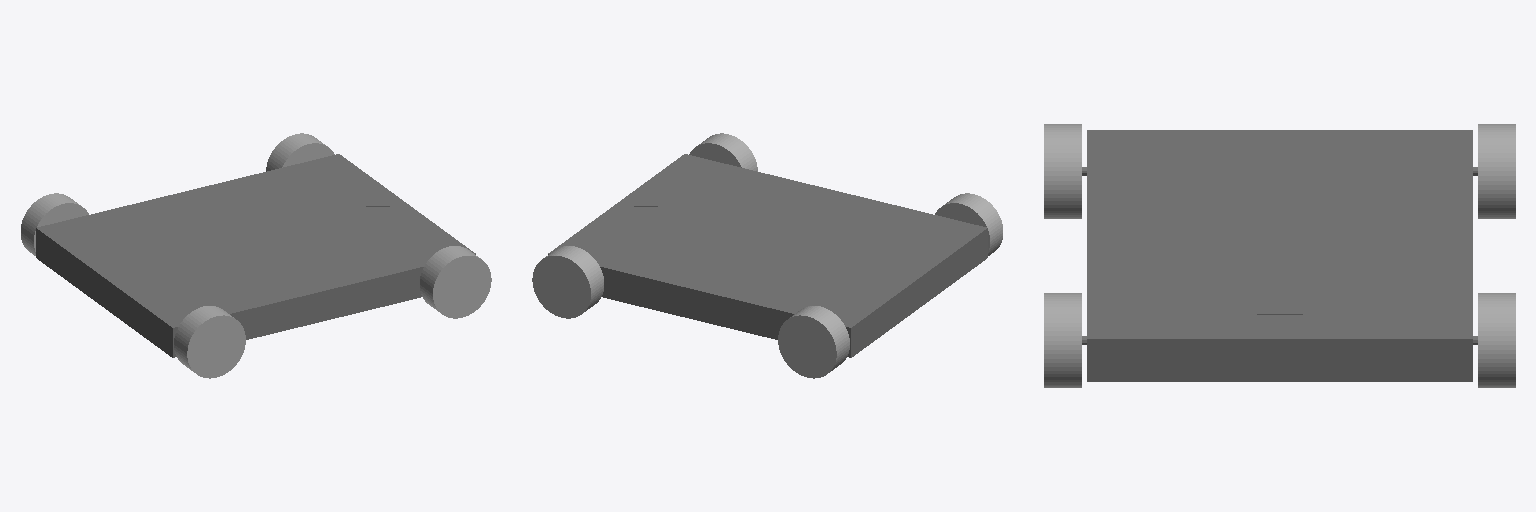
The robot description file, URDF, robot "doozy":
<?xml version="1.0" ?>
<!-- =================================================================================== -->
<!-- |    This document was autogenerated by xacro from doozy.xacro                 | -->
<!-- |    EDITING THIS FILE BY HAND IS NOT RECOMMENDED                                 | -->
<!-- =================================================================================== -->
<robot name="doozy" xmlns:xacro="http://www.ros.org/wiki/xacro">
  <material name="body_color">
    <color rgba="0.500 0.500 0.500 1.000"/>
  </material>
  <material name="wheel_color">
    <color rgba="0.700 0.700 0.700 1.000"/>
  </material>
  <transmission name="motor_fr_tran">
    <type>transmission_interface/SimpleTransmission</type>
    <joint name="motor_fr">
      <hardwareInterface>hardware_interface/EffortJointInterface</hardwareInterface>
    </joint>
    <actuator name="motor_fr_actr">
      <hardwareInterface>hardware_interface/EffortJointInterface</hardwareInterface>
      <mechanicalReduction>1</mechanicalReduction>
    </actuator>
  </transmission>
  <transmission name="motor_fl_tran">
    <type>transmission_interface/SimpleTransmission</type>
    <joint name="motor_fl">
      <hardwareInterface>hardware_interface/EffortJointInterface</hardwareInterface>
    </joint>
    <actuator name="motor_fl_actr">
      <hardwareInterface>hardware_interface/EffortJointInterface</hardwareInterface>
      <mechanicalReduction>1</mechanicalReduction>
    </actuator>
  </transmission>
  <transmission name="motor_bl_tran">
    <type>transmission_interface/SimpleTransmission</type>
    <joint name="motor_bl">
      <hardwareInterface>hardware_interface/EffortJointInterface</hardwareInterface>
    </joint>
    <actuator name="motor_bl_actr">
      <hardwareInterface>hardware_interface/EffortJointInterface</hardwareInterface>
      <mechanicalReduction>1</mechanicalReduction>
    </actuator>
  </transmission>
  <transmission name="motor_br_tran">
    <type>transmission_interface/SimpleTransmission</type>
    <joint name="motor_br">
      <hardwareInterface>hardware_interface/EffortJointInterface</hardwareInterface>
    </joint>
    <actuator name="motor_br_actr">
      <hardwareInterface>hardware_interface/EffortJointInterface</hardwareInterface>
      <mechanicalReduction>1</mechanicalReduction>
    </actuator>
  </transmission>
  <gazebo reference="base_link">
    <material>Gazebo/Grey</material>
  </gazebo>
  <gazebo reference="wheel_fr_1">
    <material>Gazebo/LightGrey</material>
  </gazebo>
  <gazebo reference="wheel_fl_1">
    <material>Gazebo/LightGrey</material>
  </gazebo>
  <gazebo reference="wheel_bl_1">
    <material>Gazebo/LightGrey</material>
  </gazebo>
  <gazebo reference="wheel_br_1">
    <material>Gazebo/LightGrey</material>
  </gazebo>
  <gazebo reference="base_link">
    <mu1>0</mu1>
    <mu2>0</mu2>
    <selfCollide>true</selfCollide>
    <gravity>true</gravity>
  </gazebo>
  <gazebo reference="wheel_fr_1">
    <mu1>0</mu1>
    <mu2>0</mu2>
    <selfCollide>true</selfCollide>
  </gazebo>
  <gazebo reference="wheel_fl_1">
    <mu1>0</mu1>
    <mu2>0</mu2>
    <selfCollide>true</selfCollide>
  </gazebo>
  <gazebo reference="wheel_bl_1">
    <mu1>0</mu1>
    <mu2>0</mu2>
    <selfCollide>true</selfCollide>
  </gazebo>
  <gazebo reference="wheel_br_1">
    <mu1>0</mu1>
    <mu2>0</mu2>
    <selfCollide>true</selfCollide>
  </gazebo>
  <gazebo>
    <plugin filename="libgazebo_ros_control.so" name="control"/>
  </gazebo>
  <gazebo>
    <plugin filename="libgazebo_ros_planar_move.so" name="mecanum_drive">
      <commandTopic>cmd_vel</commandTopic>
      <odometryTopic>odom</odometryTopic>
      <odometryFrame>odom</odometryFrame>
      <odometryRate>100.0</odometryRate>
      <robotBaseFrame>base_link</robotBaseFrame>
      <publishTF>True</publishTF>
    </plugin>
  </gazebo>
  <link name="base_link">
    <inertial>
      <origin rpy="0 0 0" xyz="-0.000688298297224989 1.5751456391869052e-16 0.10192216934639059"/>
      <mass value="49.42140174360976"/>
      <inertia ixx="3.400808" ixy="0.0" ixz="0.001669" iyy="5.304679" iyz="-0.0" izz="8.500348"/>
    </inertial>
    <visual>
      <origin rpy="0 0 0" xyz="0 0 0"/>
      <geometry>
        <mesh filename="package://doozy_description/meshes/base_link.stl" scale="0.001 0.001 0.001"/>
      </geometry>
      <material name="body_color"/>
    </visual>
    <collision>
      <origin rpy="0 0 0" xyz="0 0 0"/>
      <geometry>
        <mesh filename="package://doozy_description/meshes/base_link.stl" scale="0.001 0.001 0.001"/>
      </geometry>
    </collision>
  </link>
  <link name="wheel_fr">
    <inertial>
      <origin rpy="0 0 0" xyz="-1.6231938637645271e-06 -0.03791410954438729 6.6563337141889445e-06"/>
      <mass value="2.9254253401761314"/>
      <inertia ixx="0.009698" ixy="-0.0" ixz="0.0" iyy="0.016455" iyz="0.0" izz="0.009697"/>
    </inertial>
    <visual>
      <origin rpy="0 0 0" xyz="-0.425 0.426 -0.102"/>
      <geometry>
        <mesh filename="package://doozy_description/meshes/wheel_fr.stl" scale="0.001 0.001 0.001"/>
      </geometry>
      <material name="wheel_color"/>
    </visual>
    <collision>
      <origin rpy="0 0 0" xyz="-0.425 0.426 -0.102"/>
      <geometry>
        <mesh filename="package://doozy_description/meshes/wheel_fr.stl" scale="0.001 0.001 0.001"/>
      </geometry>
    </collision>
  </link>
  <link name="wheel_fl">
    <inertial>
      <origin rpy="0 0 0" xyz="-1.6273189041293712e-06 0.037914108528931734 6.657952042840587e-06"/>
      <mass value="2.9254254631047467"/>
      <inertia ixx="0.009698" ixy="0.0" ixz="0.0" iyy="0.016455" iyz="-0.0" izz="0.009697"/>
    </inertial>
    <visual>
      <origin rpy="0 0 0" xyz="-0.425 -0.426 -0.102"/>
      <geometry>
        <mesh filename="package://doozy_description/meshes/wheel_fl.stl" scale="0.001 0.001 0.001"/>
      </geometry>
      <material name="wheel_color"/>
    </visual>
    <collision>
      <origin rpy="0 0 0" xyz="-0.425 -0.426 -0.102"/>
      <geometry>
        <mesh filename="package://doozy_description/meshes/wheel_fl.stl" scale="0.001 0.001 0.001"/>
      </geometry>
    </collision>
  </link>
  <link name="wheel_bl">
    <inertial>
      <origin rpy="0 0 0" xyz="-1.3662729291818998e-06 0.03788965045500853 6.656333802451675e-06"/>
      <mass value="2.925425340175096"/>
      <inertia ixx="0.009698" ixy="-1e-06" ixz="0.0" iyy="0.016456" iyz="0.0" izz="0.009697"/>
    </inertial>
    <visual>
      <origin rpy="0 0 0" xyz="0.425 -0.426 -0.102"/>
      <geometry>
        <mesh filename="package://doozy_description/meshes/wheel_bl.stl" scale="0.001 0.001 0.001"/>
      </geometry>
      <material name="wheel_color"/>
    </visual>
    <collision>
      <origin rpy="0 0 0" xyz="0.425 -0.426 -0.102"/>
      <geometry>
        <mesh filename="package://doozy_description/meshes/wheel_bl.stl" scale="0.001 0.001 0.001"/>
      </geometry>
    </collision>
  </link>
  <link name="wheel_br">
    <inertial>
      <origin rpy="0 0 0" xyz="-1.3697194627959597e-06 -0.03788965136144423 6.657912586596759e-06"/>
      <mass value="2.925425404496671"/>
      <inertia ixx="0.009698" ixy="1e-06" ixz="0.0" iyy="0.016456" iyz="-0.0" izz="0.009697"/>
    </inertial>
    <visual>
      <origin rpy="0 0 0" xyz="0.425 0.426 -0.102"/>
      <geometry>
        <mesh filename="package://doozy_description/meshes/wheel_br.stl" scale="0.001 0.001 0.001"/>
      </geometry>
      <material name="wheel_color"/>
    </visual>
    <collision>
      <origin rpy="0 0 0" xyz="0.425 0.426 -0.102"/>
      <geometry>
        <mesh filename="package://doozy_description/meshes/wheel_br.stl" scale="0.001 0.001 0.001"/>
      </geometry>
    </collision>
  </link>
  <joint name="motor_fr" type="continuous">
    <origin rpy="0 0 0" xyz="0.425 -0.426 0.102"/>
    <parent link="base_link"/>
    <child link="wheel_fr"/>
    <axis xyz="0.0 0.01 0.0"/>
  </joint>
  <joint name="motor_fl" type="continuous">
    <origin rpy="0 0 0" xyz="0.425 0.426 0.102"/>
    <parent link="base_link"/>
    <child link="wheel_fl"/>
    <axis xyz="0.0 0.01 0.0"/>
  </joint>
  <joint name="motor_bl" type="continuous">
    <origin rpy="0 0 0" xyz="-0.425 0.426 0.102"/>
    <parent link="base_link"/>
    <child link="wheel_bl"/>
    <axis xyz="0.0 0.01 0.0"/>
  </joint>
  <joint name="motor_br" type="continuous">
    <origin rpy="0 0 0" xyz="-0.425 -0.426 0.102"/>
    <parent link="base_link"/>
    <child link="wheel_br"/>
    <axis xyz="0.0 0.01 0.0"/>
  </joint>
</robot>

--- Facts derived from the render (not from the file) ---
The picture shows the robot from 3 angles, left to right: view 1: azimuth 30°, elevation 25°; view 2: azimuth 150°, elevation 25°; view 3: azimuth 270°, elevation 25°; orthographic projection.
Model doozy with 5 links and 4 joints (4 continuous), rooted at base_link, posed all joints at 0.
Links seen in each view (by area): view 1: base_link, wheel_fr, wheel_br, wheel_bl, wheel_fl; view 2: base_link, wheel_fl, wheel_bl, wheel_br, wheel_fr; view 3: base_link, wheel_fr, wheel_fl, wheel_bl, wheel_br.
Boxes of the visible links, x1,y1,x2,y2 form: base_link: (36,154,475,357); wheel_fr: (420,246,491,318); wheel_br: (174,306,245,378); wheel_bl: (21,193,88,255); wheel_fl: (266,133,334,171); base_link: (548,154,987,357); wheel_fl: (532,246,603,318); wheel_bl: (778,306,849,378); wheel_br: (935,193,1002,255); wheel_fr: (689,133,757,171); base_link: (1082,130,1477,381); wheel_fr: (1044,293,1081,387); wheel_fl: (1478,293,1515,387); wheel_bl: (1478,124,1515,218); wheel_br: (1044,124,1081,218).
Bounding box of the posed robot: 1.05 × 1 × 0.2031 m (x, y, z).
Meshes: 5 distinct files referenced, 5 mesh visuals loaded (5 binary STL).